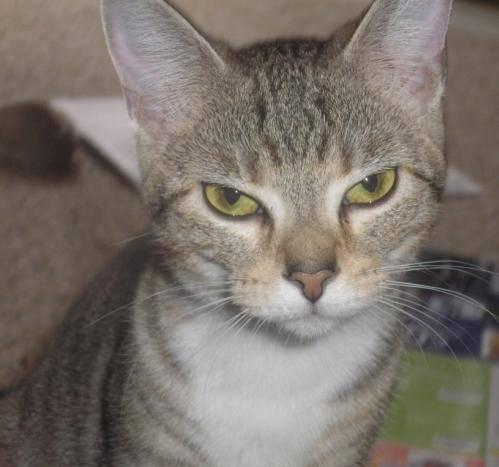cat: (100, 0, 454, 467)
